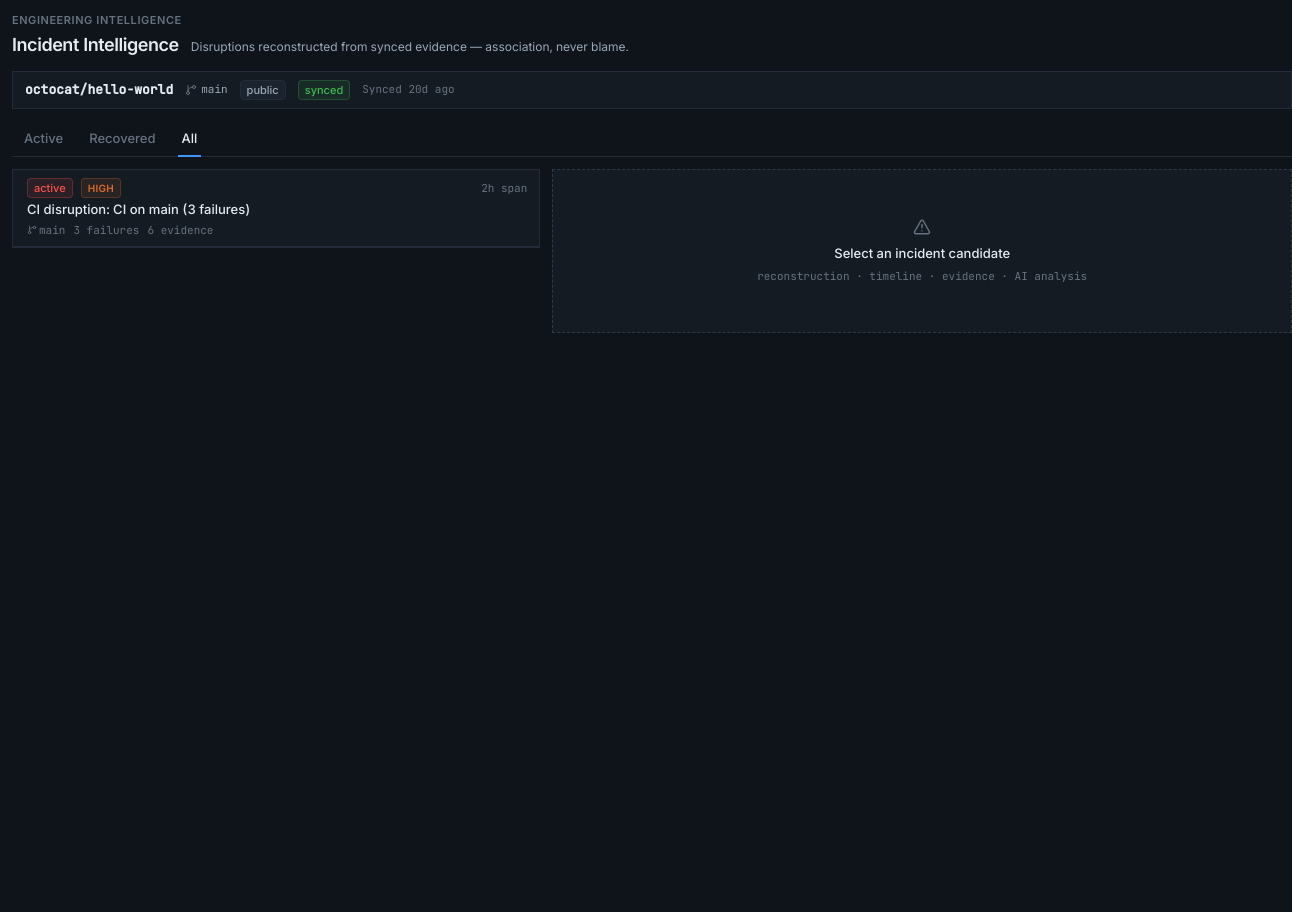
Test: IncidentsPage investigation › links evidence to real investigation surfaces
The image size is (1292, 912).
Click the text "CI disruption: CI on main (3 failures)" at (139, 209), box top-left (27, 201), bottom-right (250, 217)
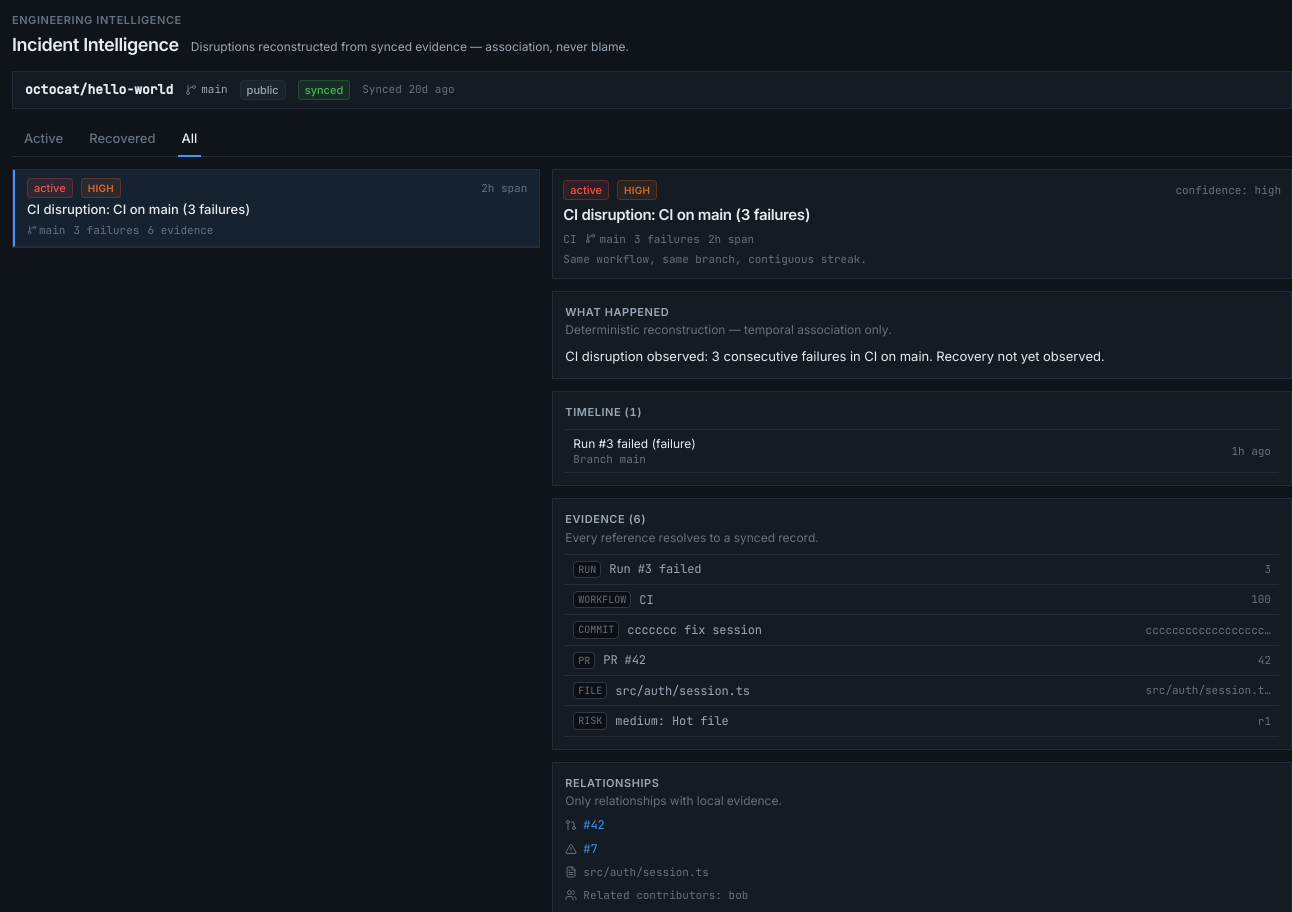
Now the heading "What happened" is shown, box top-left (565, 304), bottom-right (669, 318)
